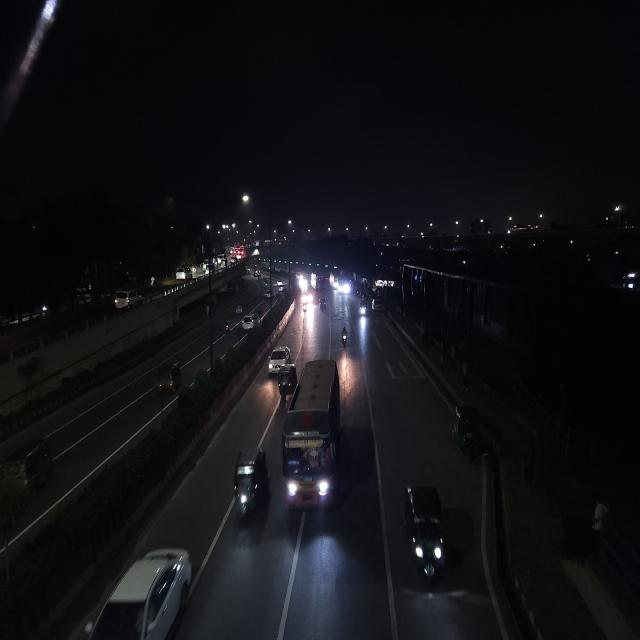bus: (280, 354, 344, 524), (331, 266, 351, 295)
car: (85, 540, 195, 638), (266, 344, 293, 376), (113, 287, 141, 310), (244, 308, 262, 329), (241, 313, 257, 333), (358, 300, 368, 317), (264, 287, 272, 300)
cng: (401, 481, 447, 590), (230, 442, 270, 526), (1, 434, 55, 496), (450, 403, 485, 466), (157, 360, 182, 397), (277, 362, 296, 406), (225, 278, 237, 295), (234, 299, 245, 317), (318, 297, 328, 314)
motorcycle: (339, 325, 351, 350), (222, 317, 232, 335), (300, 303, 309, 318)
